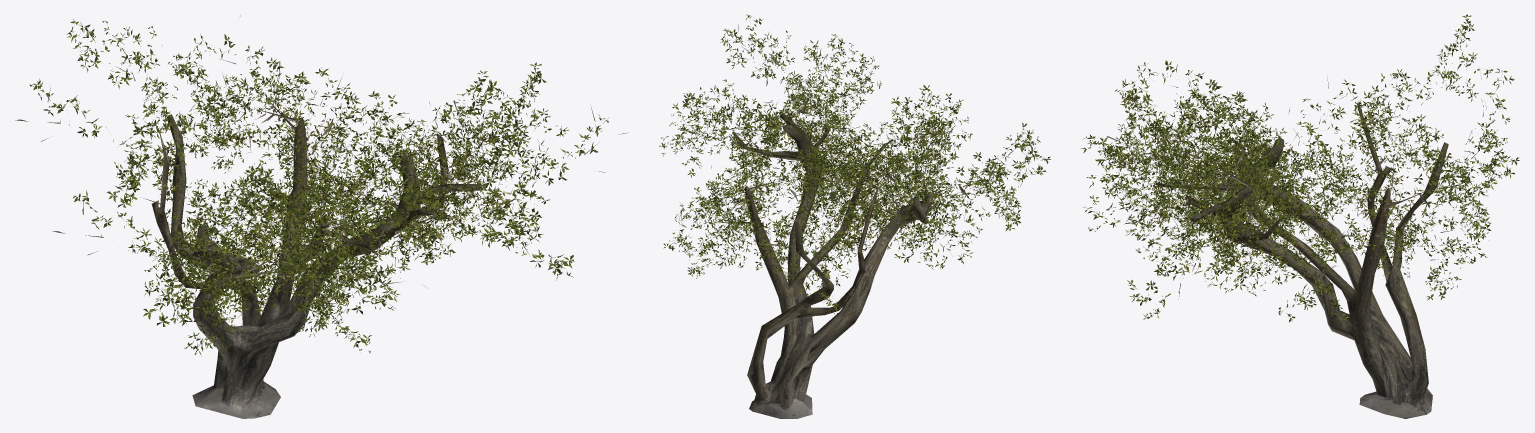
Rendered from tree_lod.glb.
The picture shows the model from 3 angles, left to right: view 1: azimuth 30°, elevation 25°; view 2: azimuth 150°, elevation 25°; view 3: azimuth 270°, elevation 25°; orthographic projection. The views are drawn at different scales.
Visible parts, largest first — view 1: island_tree_02_LOD0; view 2: island_tree_02_LOD0; view 3: island_tree_02_LOD0.
Part boxes in pixels (x1=…): island_tree_02_LOD0: x1=15, y1=15, x2=628, y2=418; island_tree_02_LOD0: x1=659, y1=14, x2=1050, y2=418; island_tree_02_LOD0: x1=1081, y1=14, x2=1519, y2=418.
Bounding box in the file's own units: 4.21 × 3.41 × 4.07.
3 materials, 3 textured.
